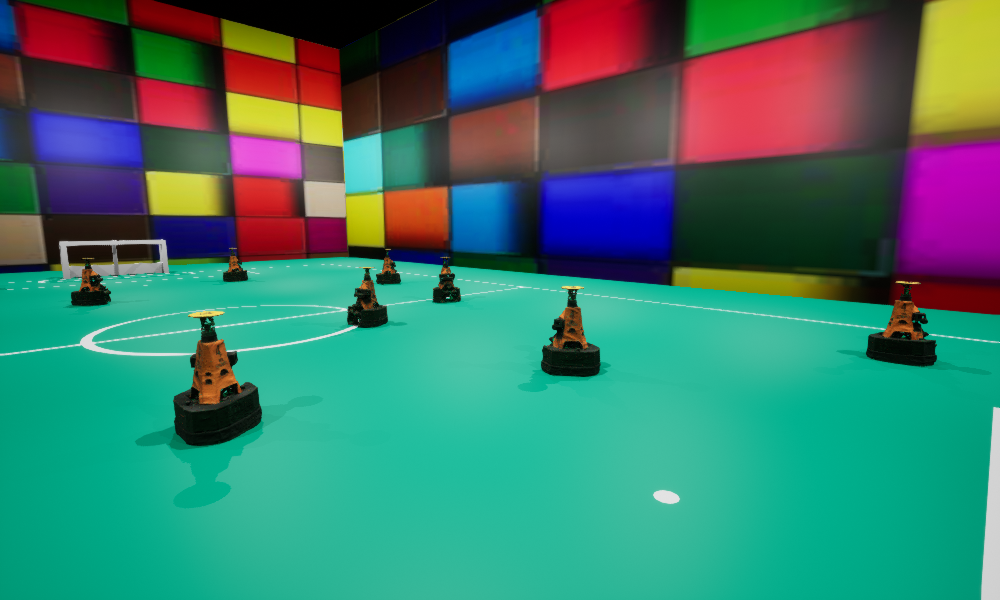0 orange robot TechUnited: (173, 311, 261, 445), (866, 281, 936, 365), (541, 286, 600, 376), (347, 267, 387, 326), (71, 258, 110, 305), (433, 257, 460, 302), (376, 249, 400, 284), (223, 248, 247, 281)
